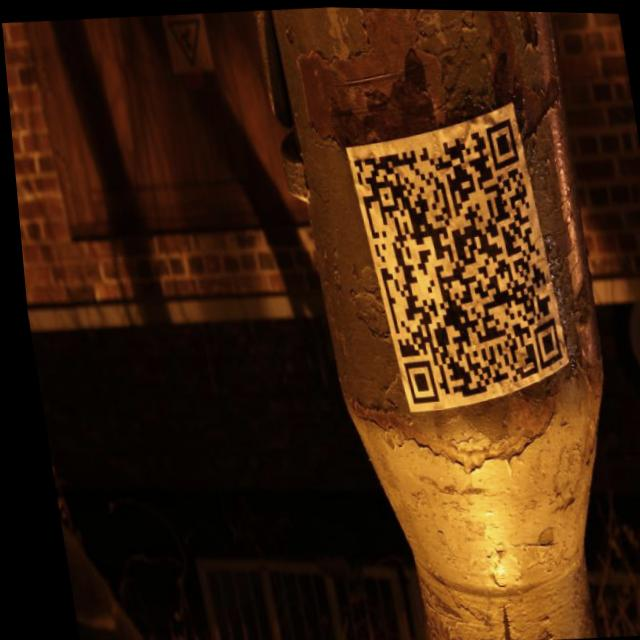qrcode: (344, 112, 562, 406)
